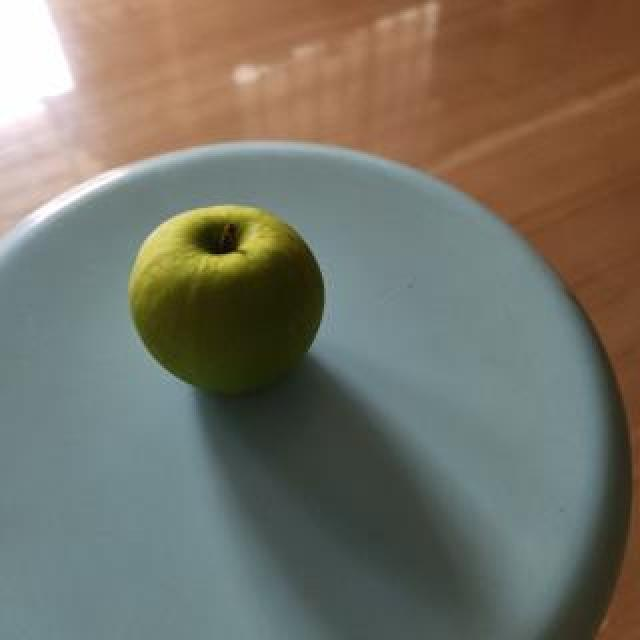Fresh Apple: (138, 204, 326, 389)
